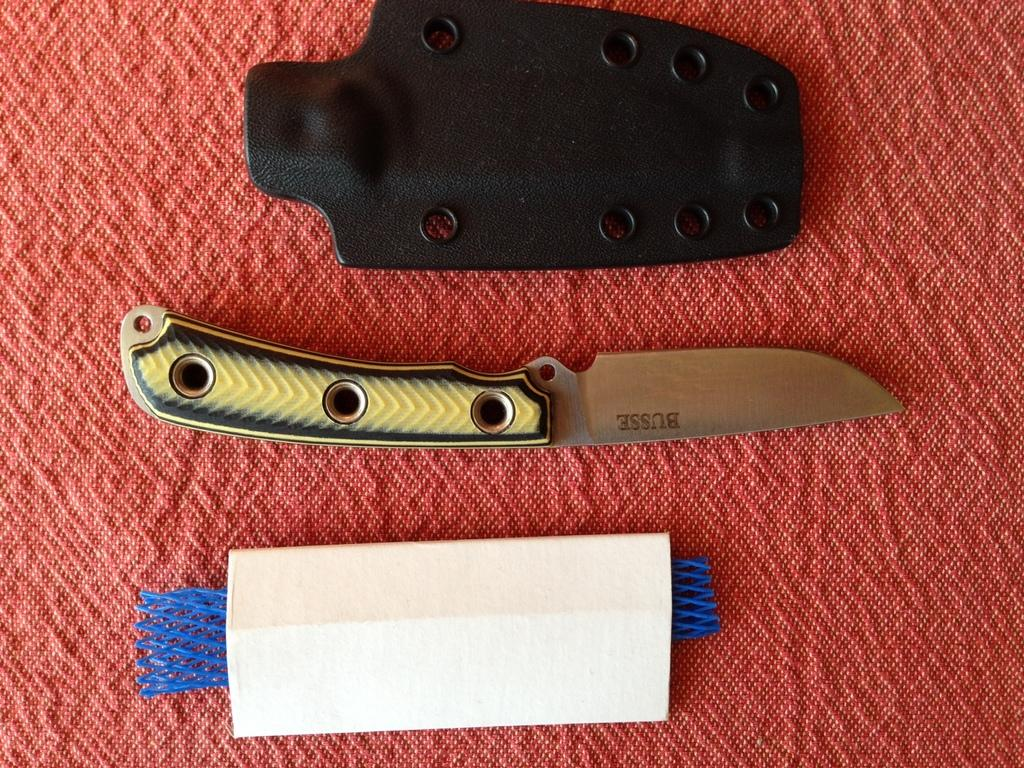Knife: (123, 303, 912, 454)
